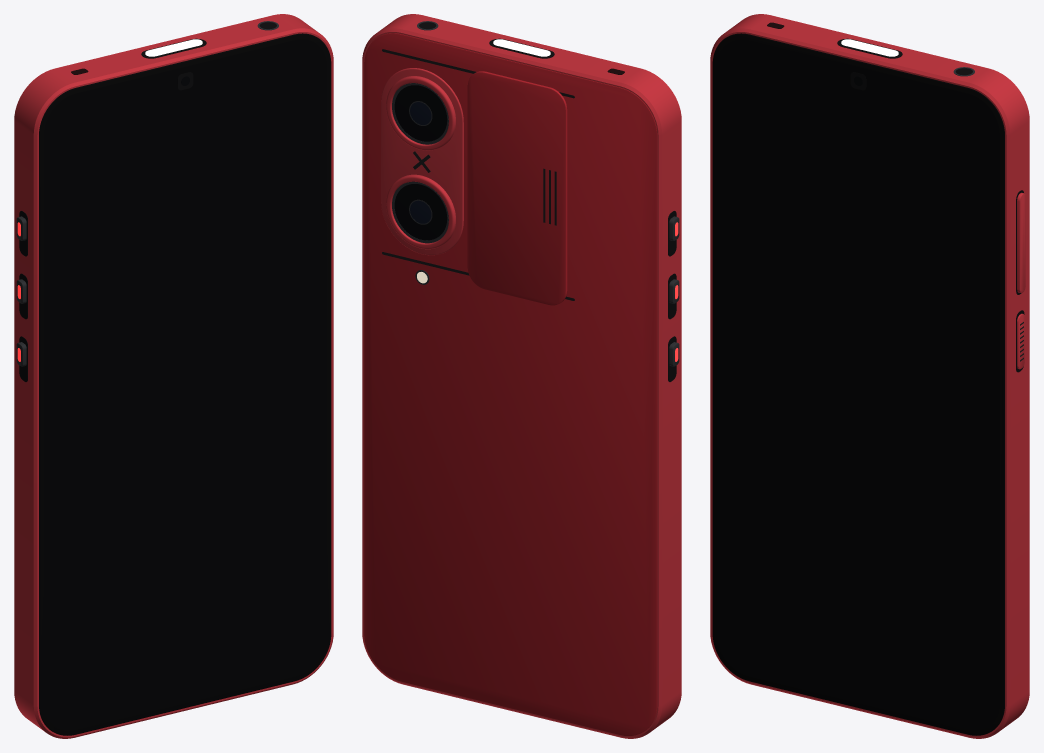
3 renders of one model, left to right at view 1: azimuth 30°, elevation 25°; view 2: azimuth 150°, elevation 25°; view 3: azimuth 330°, elevation 25°, orthographic.
Visible parts, largest first — view 1: Screen, Frame, Glass, SwitchSlots, TopDetails; view 2: Body, Frame, Shutter, CameraModules, CameraIsland, ShutterRails, SwitchSlots, TopDetails; view 3: Screen, Frame, Glass, VolumeRocker, TopDetails.
Boxes of the visible parts, x1,y1,x2,y2 form: Screen: (44, 39, 326, 730); Frame: (14, 14, 333, 738); Glass: (39, 33, 331, 735); SwitchSlots: (19, 211, 27, 381); TopDetails: (71, 21, 278, 74); Body: (364, 33, 657, 735); Frame: (362, 14, 681, 738); Shutter: (467, 71, 567, 305); CameraModules: (386, 76, 455, 249); CameraIsland: (381, 68, 463, 255); ShutterRails: (382, 49, 574, 300); SwitchSlots: (668, 211, 676, 381); TopDetails: (417, 21, 624, 74); Screen: (717, 39, 999, 730); Frame: (710, 14, 1029, 738); Glass: (712, 33, 1004, 735); VolumeRocker: (1017, 192, 1025, 292); TopDetails: (767, 22, 974, 76).
Bounding box in the file's own units: 0.0719 × 0.1465 × 0.0112.
